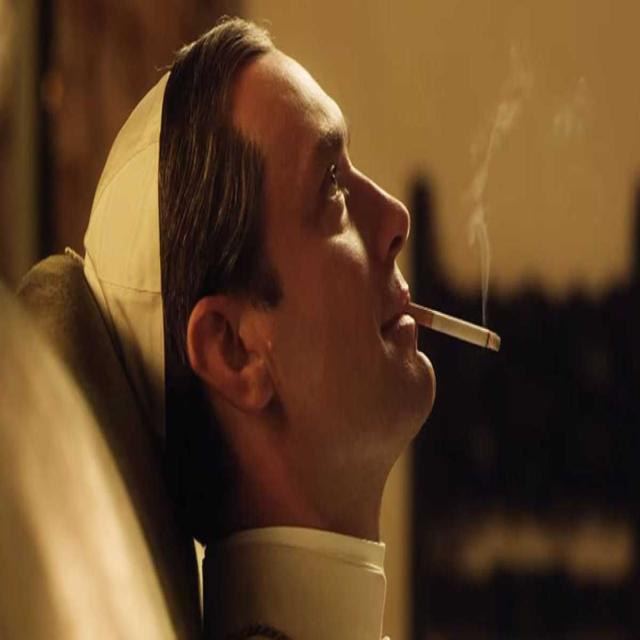Smooking: (404, 288, 507, 358)
